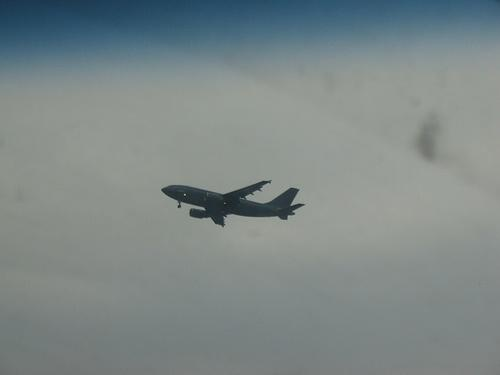aeroplane: (162, 181, 305, 228)
